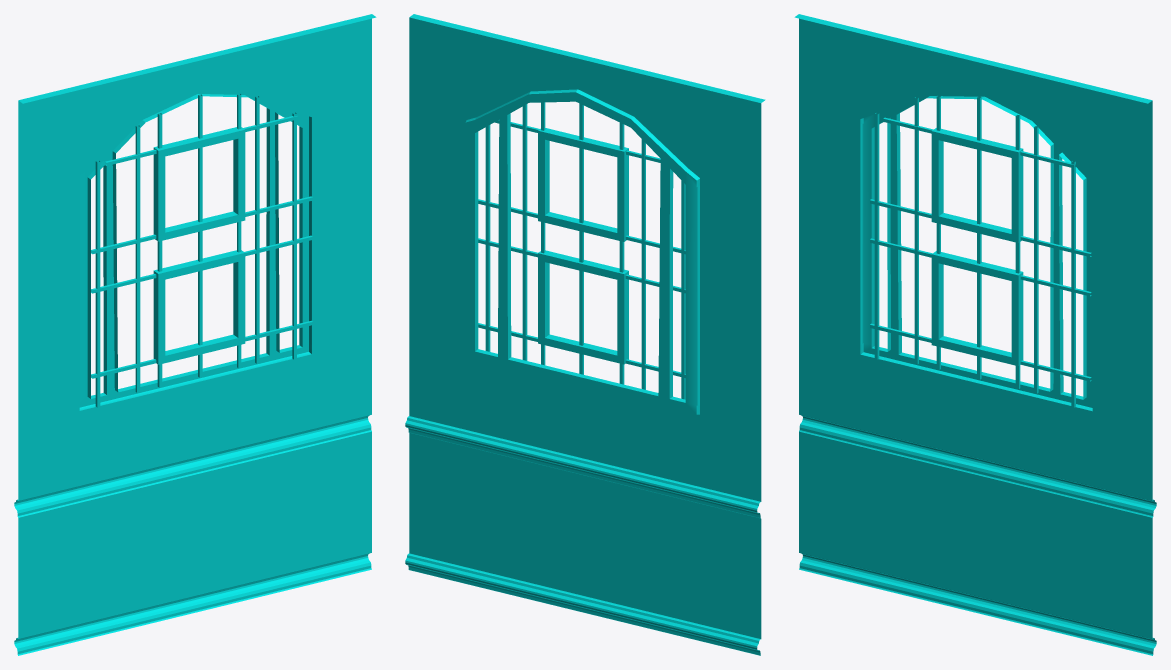
File: ModWindow.fbx
The picture shows the model from 3 angles, left to right: view 1: azimuth 30°, elevation 25°; view 2: azimuth 150°, elevation 25°; view 3: azimuth 330°, elevation 25°; orthographic projection.
Visible parts, largest first — view 1: ModWallWindow; view 2: ModWallWindow; view 3: ModWallWindow.
Part boxes in pixels (x1=…): ModWallWindow: x1=14, y1=14, x2=376, y2=655; ModWallWindow: x1=405, y1=14, x2=765, y2=655; ModWallWindow: x1=794, y1=14, x2=1156, y2=655.
Size of the model in its own units: 240 by 360 by 10.25.
